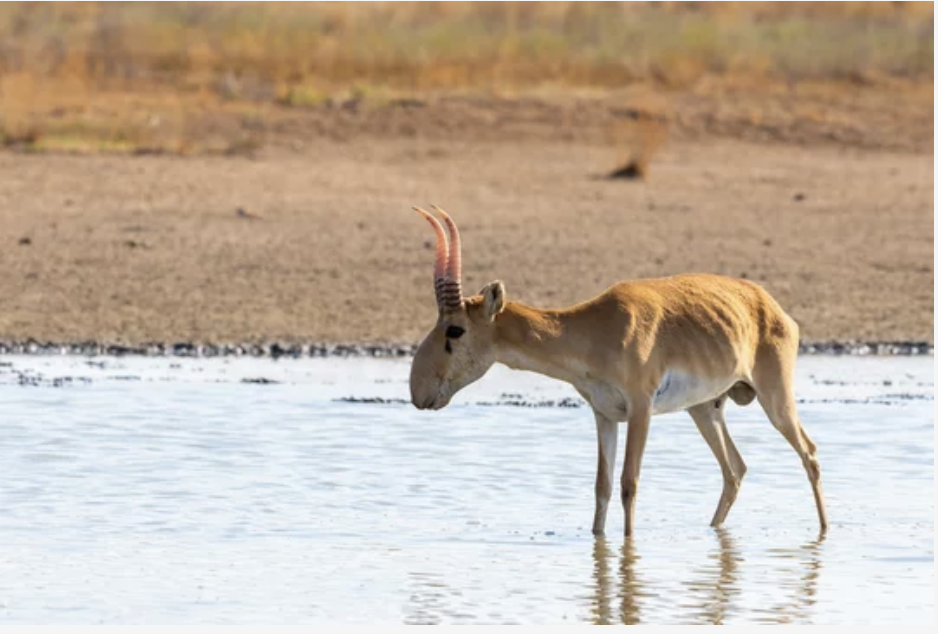saiga: (399, 199, 839, 547)
